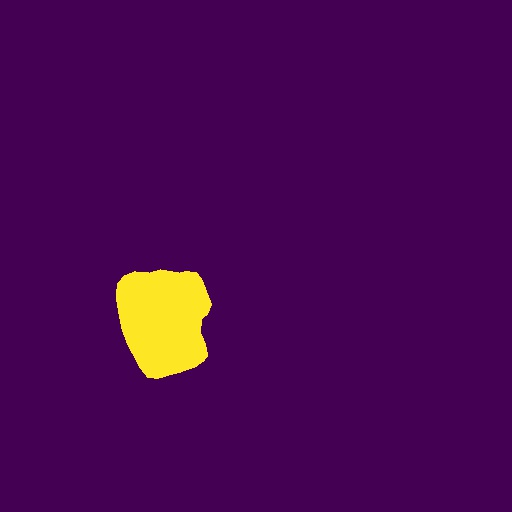Menigiomia_tumour: (116, 269, 212, 379)
